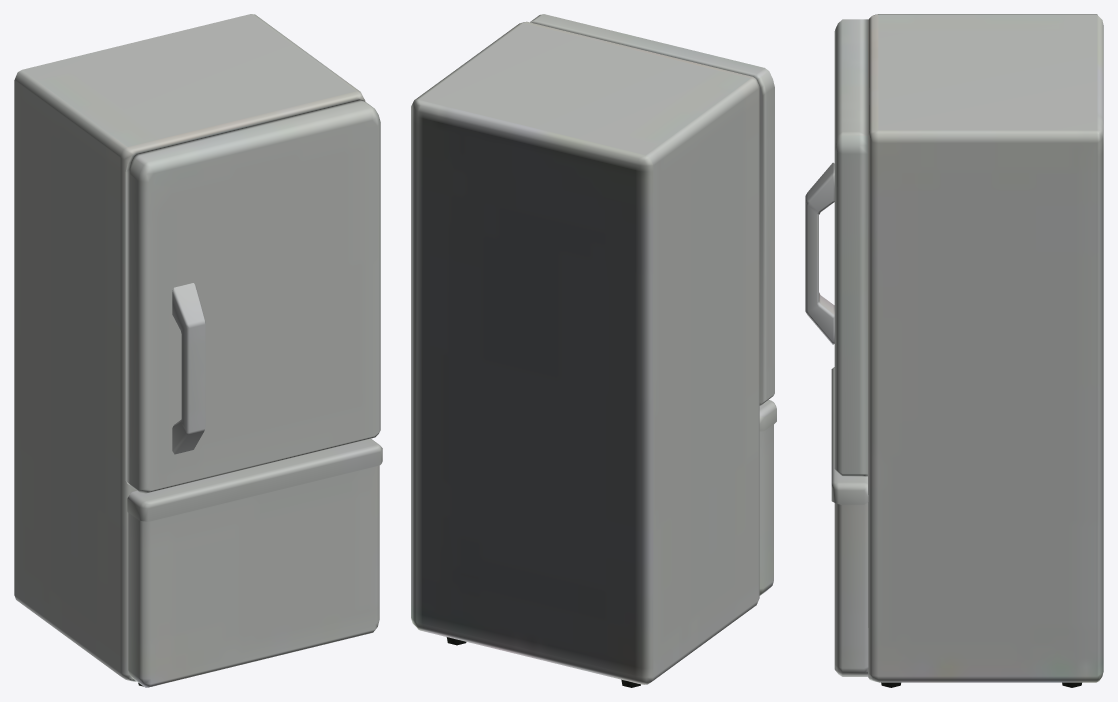
3 views of the same model, side by side, from view 1: azimuth 30°, elevation 25°; view 2: azimuth 150°, elevation 25°; view 3: azimuth 270°, elevation 25° (orthographic). The views are drawn at different scales.
Bounding box in the file's own units: 7.93 × 17 × 8.11.
Materials: 1 (1 with a texture image).
